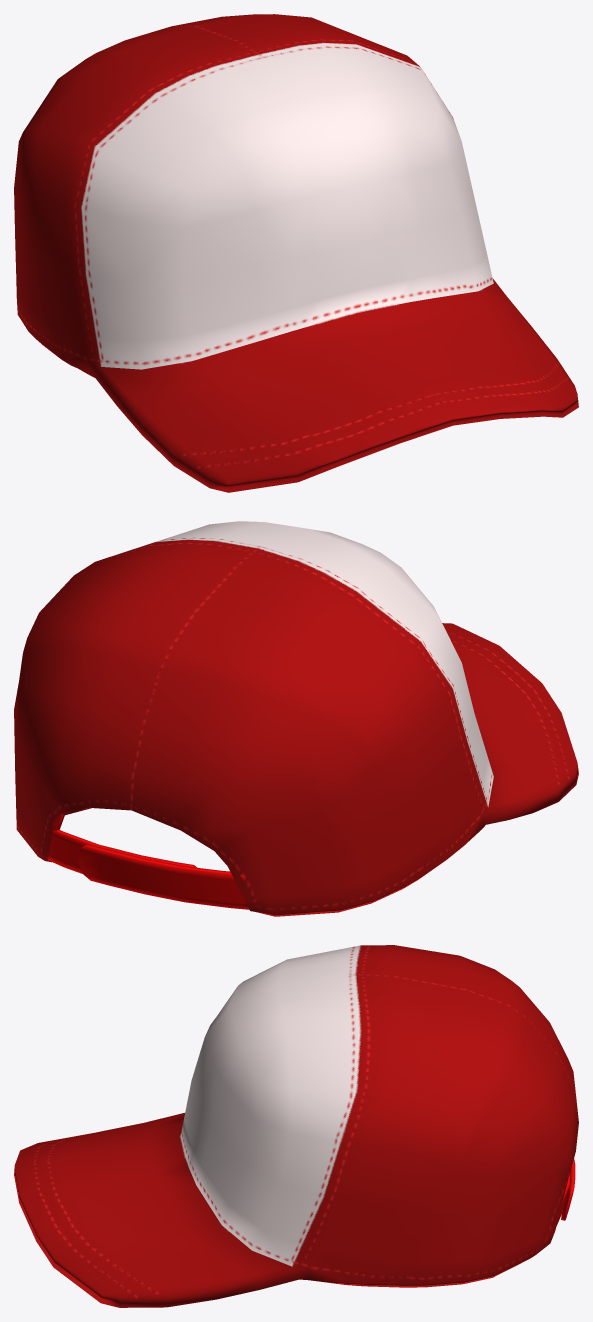
Rendered from BaseballCap.fbx.
3 renders of one model, top to bottom at view 1: azimuth 30°, elevation 25°; view 2: azimuth 150°, elevation 25°; view 3: azimuth 270°, elevation 25°, orthographic. The views are drawn at different scales.
Visible parts, largest first — view 1: BaseballCap1; view 2: BaseballCap1; view 3: BaseballCap1.
Part boxes in pixels (box(x1,y1,x2,y2)): BaseballCap1: box(14, 14, 578, 492); BaseballCap1: box(14, 521, 578, 916); BaseballCap1: box(14, 945, 578, 1307).
Bounding box in the file's own units: 3.09 × 2.15 × 4.33.
Materials: 1 (1 with a texture image).
